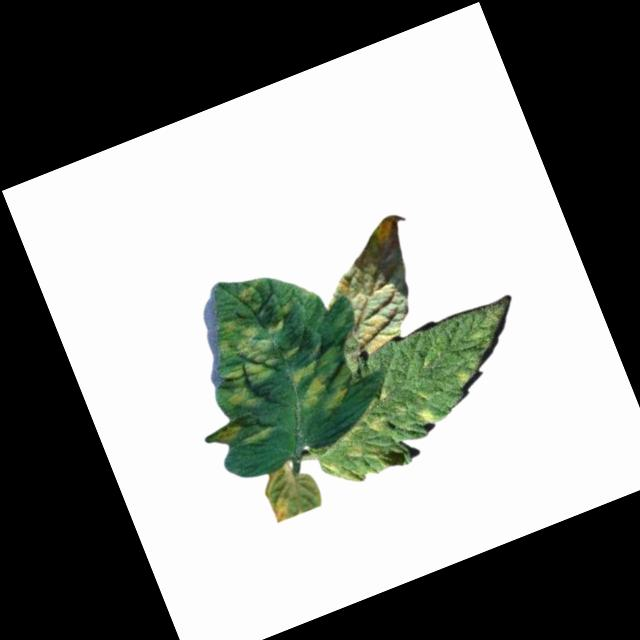Leaf_Mold: (304, 212, 437, 360), (200, 299, 318, 414), (313, 406, 406, 493), (281, 340, 359, 419), (256, 458, 325, 525), (207, 409, 273, 461), (447, 358, 476, 391), (411, 401, 440, 430), (235, 280, 259, 300)
